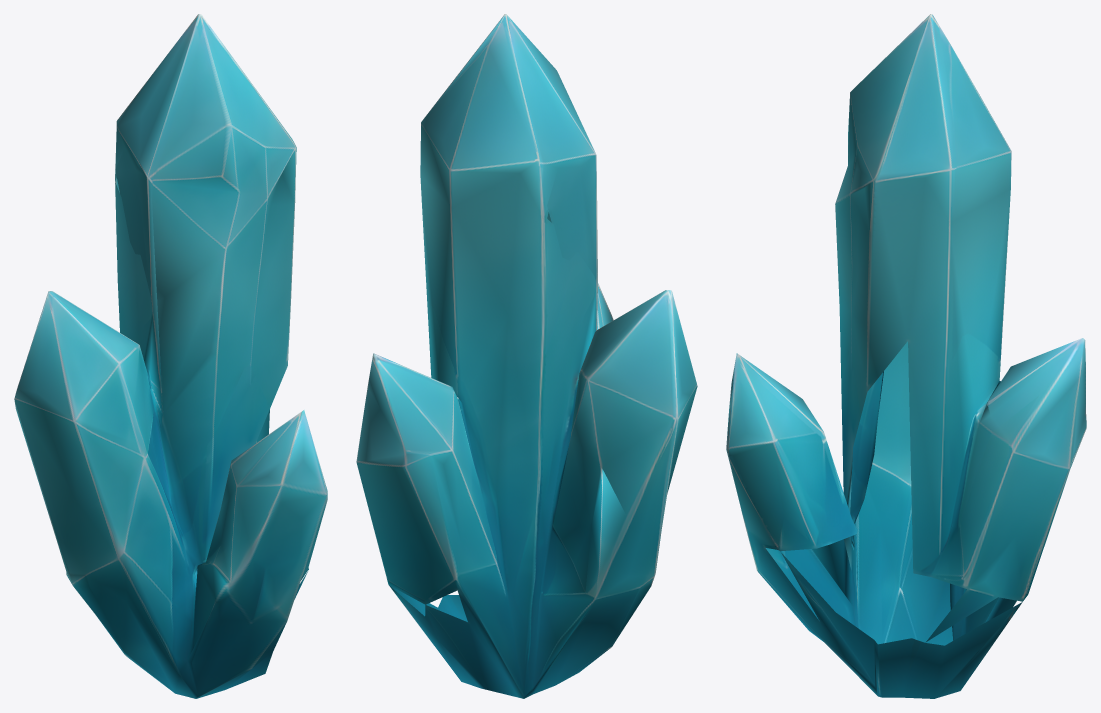
File: crystal.glb
3 views of the same model, side by side, from view 1: azimuth 30°, elevation 25°; view 2: azimuth 150°, elevation 25°; view 3: azimuth 270°, elevation 25° (orthographic). The views are drawn at different scales.
Visible parts, largest first — view 1: material; view 2: material; view 3: material.
Part boxes in pixels (bbox=[...]): material: bbox=[14, 14, 327, 698]; material: bbox=[356, 14, 697, 698]; material: bbox=[726, 14, 1086, 698].
Bounding box in the file's own units: 0.8182 × 1.9 × 0.9373.
1 material, 1 textured.
